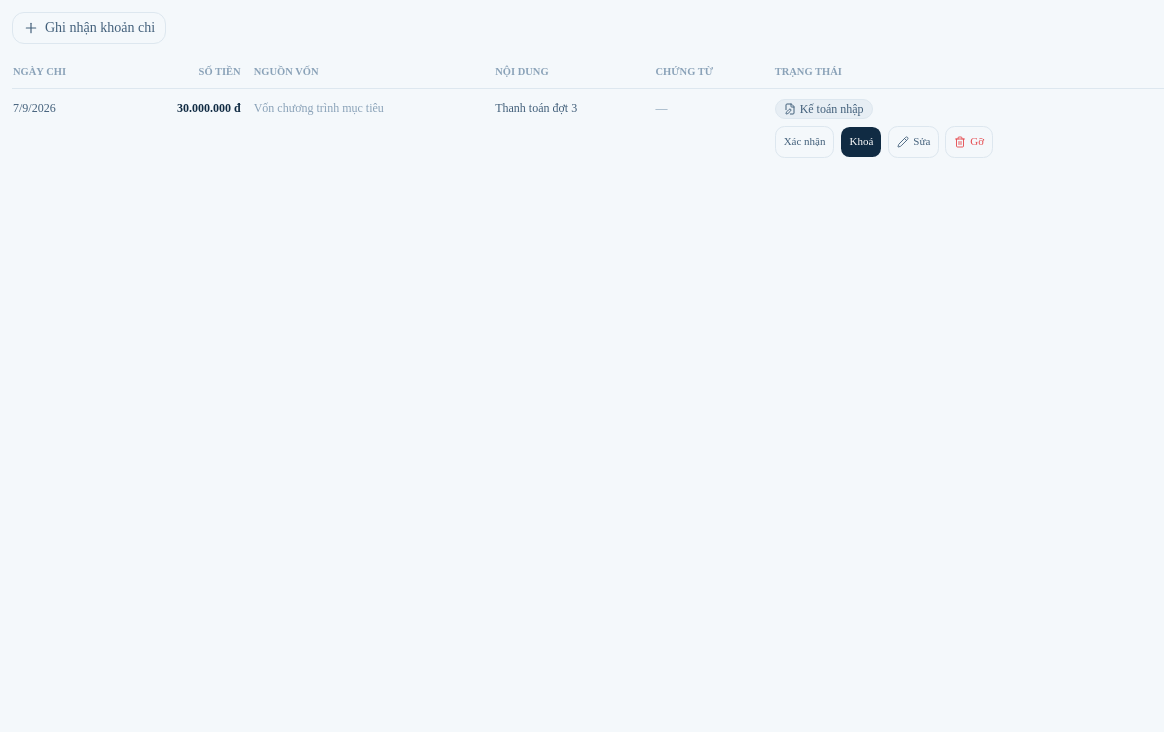
§8.2 form — `Rút từ nguồn vốn` › EDIT of a voucher whose source the project no longer allocates: that source stays shown, not swapped
The width and height of the screenshot is (1164, 732).
What coordinates should you click on to do the following:
click the button with aria-label "Sửa chứng từ ngày 7/9/2026"
I would click on:
 (914, 142)
Its box is [888,126,939,158].
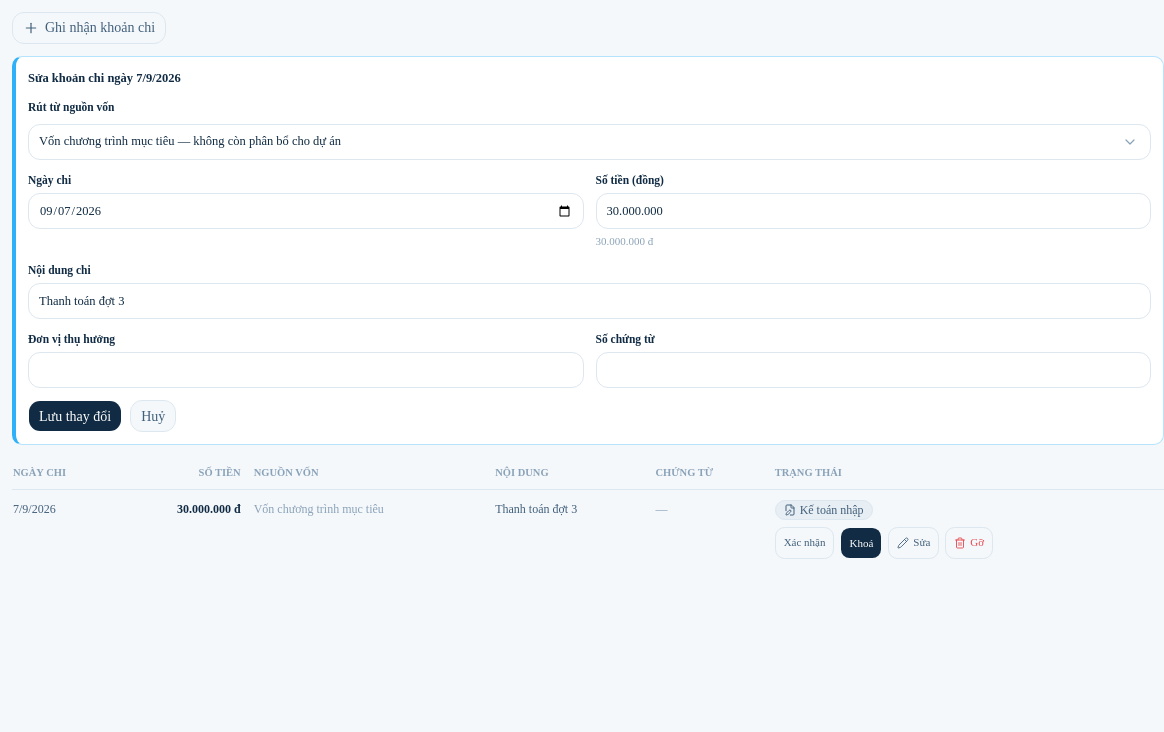
Expected: the dropdown labelled "Rút từ nguồn vốn" shows "Vốn chương trình mục tiêu — không còn phân bổ cho dự án", [28,124,1151,160]
